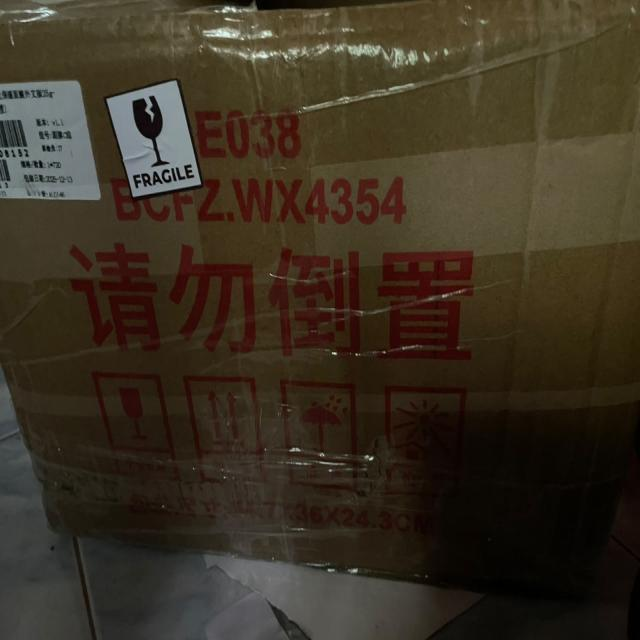carton_box: (0, 3, 640, 606)
export_mark_label: (0, 83, 102, 208)
fragile_label: (105, 84, 210, 210), (92, 366, 179, 490)
keep_dry_label: (280, 374, 366, 498)
protect_from_heat_label: (386, 375, 476, 504)
this_side_up_label: (186, 366, 267, 497)
